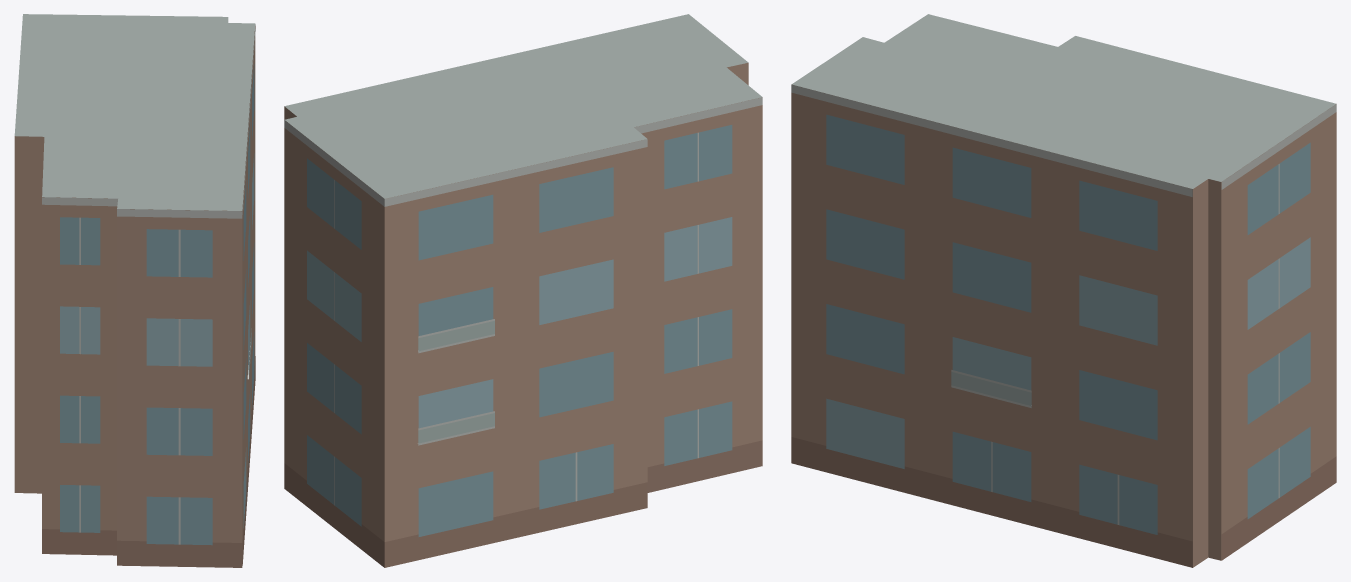
Rendered from survey-upis-32889932.glb.
The picture shows the model from 3 angles, left to right: view 1: azimuth 30°, elevation 25°; view 2: azimuth 150°, elevation 25°; view 3: azimuth 270°, elevation 25°; orthographic projection. The views are drawn at different scales.
Visible parts, largest first — view 1: survey-upis-32889932.tmp; view 2: survey-upis-32889932.tmp; view 3: survey-upis-32889932.tmp.
Part boxes in pixels (x1=…): survey-upis-32889932.tmp: x1=14, y1=14, x2=255, y2=567; survey-upis-32889932.tmp: x1=284, y1=14, x2=762, y2=567; survey-upis-32889932.tmp: x1=791, y1=14, x2=1336, y2=567.
Size of the model in its own units: 11.21 by 11.3 by 14.75.
